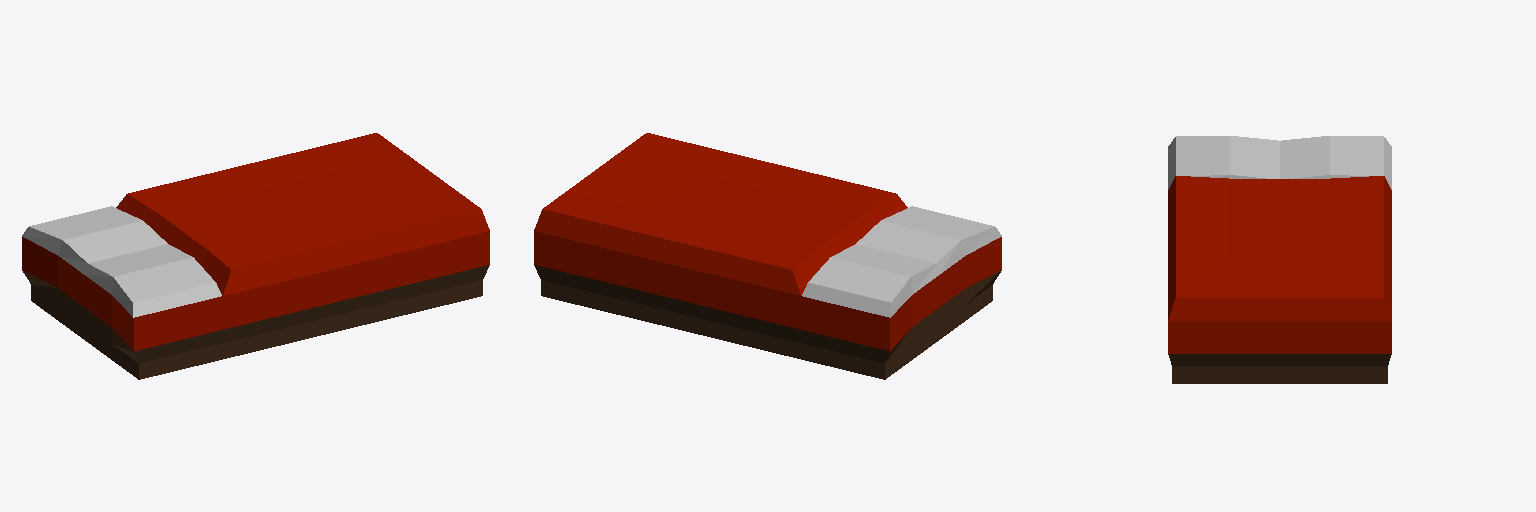
File: Futon.obj
The picture shows the model from 3 angles: view 1: azimuth 30°, elevation 25°; view 2: azimuth 150°, elevation 25°; view 3: azimuth 270°, elevation 25°; orthographic projection.
Visible parts, largest first — view 1: Futon_Cube.002; view 2: Futon_Cube.002; view 3: Futon_Cube.002.
Boxes of the visible parts, box(x1,y1,x2,y2) form: Futon_Cube.002: box(22, 133, 489, 379); Futon_Cube.002: box(534, 133, 1001, 379); Futon_Cube.002: box(1168, 136, 1391, 383).
Bounding box in the file's own units: 11.46 × 2.63 × 6.22.